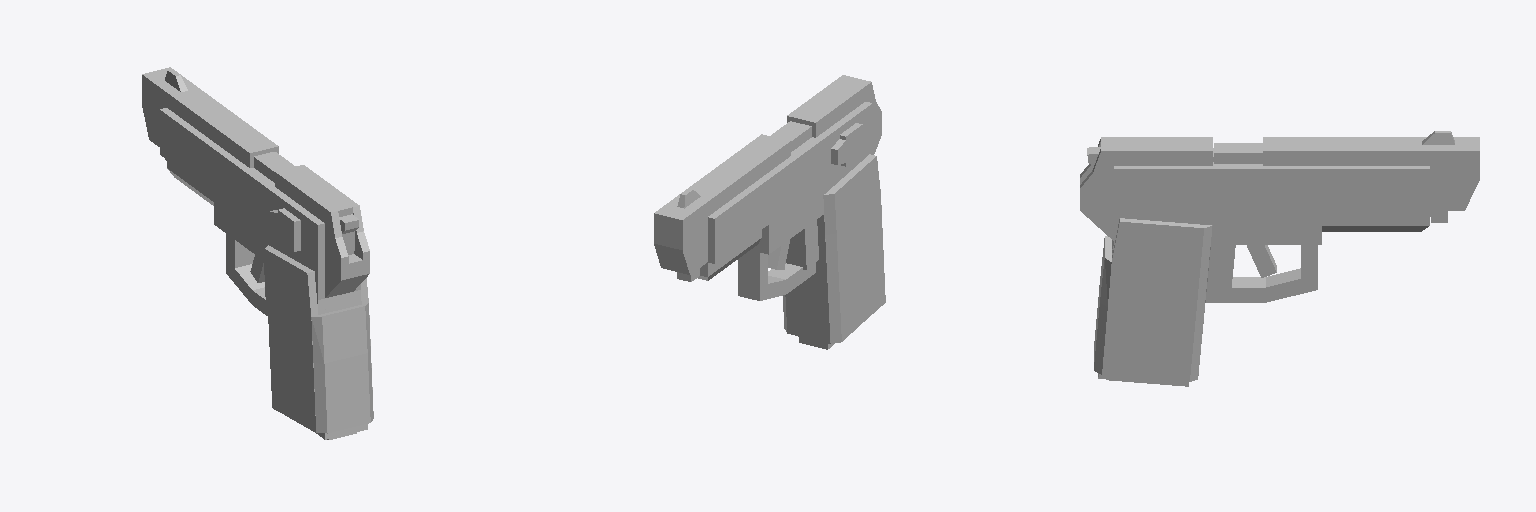
File: pistol.obj
3 renders of one model, left to right at view 1: azimuth 30°, elevation 25°; view 2: azimuth 150°, elevation 25°; view 3: azimuth 270°, elevation 25°, orthographic.
Parts seen in each view (by area): view 1: Wood_handle, slide_main, Pistol_handle, slide_basic, fireslector, slide_suppressor, Barrel_pistol; view 2: Pistol_handle, Wood_handle, slide_basic, slide_main, fireslector, Barrel_pistol; view 3: slide_main, Wood_handle, slide_basic, Pistol_handle, Barrel_pistol, Trigger.
Part boxes in pixels (bbox=[...]): Wood_handle: bbox=[265, 245, 373, 433]; slide_main: bbox=[217, 122, 369, 280]; Pistol_handle: bbox=[167, 160, 368, 439]; slide_basic: bbox=[142, 67, 244, 196]; fireslector: bbox=[270, 208, 300, 251]; slide_suppressor: bbox=[150, 126, 222, 195]; Barrel_pistol: bbox=[254, 152, 295, 182]; Pistol_handle: bbox=[698, 135, 881, 343]; Wood_handle: bbox=[783, 154, 885, 343]; slide_basic: bbox=[654, 159, 772, 274]; slide_main: bbox=[729, 75, 881, 220]; fireslector: bbox=[831, 123, 862, 166]; Barrel_pistol: bbox=[771, 121, 811, 151]; slide_main: bbox=[1080, 137, 1329, 214]; Wood_handle: bbox=[1094, 218, 1212, 381]; slide_basic: bbox=[1313, 131, 1479, 214]; Pistol_handle: bbox=[1081, 211, 1429, 378]; Barrel_pistol: bbox=[1214, 143, 1262, 163]; Trigger: bbox=[1247, 245, 1276, 277].
Size of the model in its own units: 0.25 by 1.03 by 1.5.